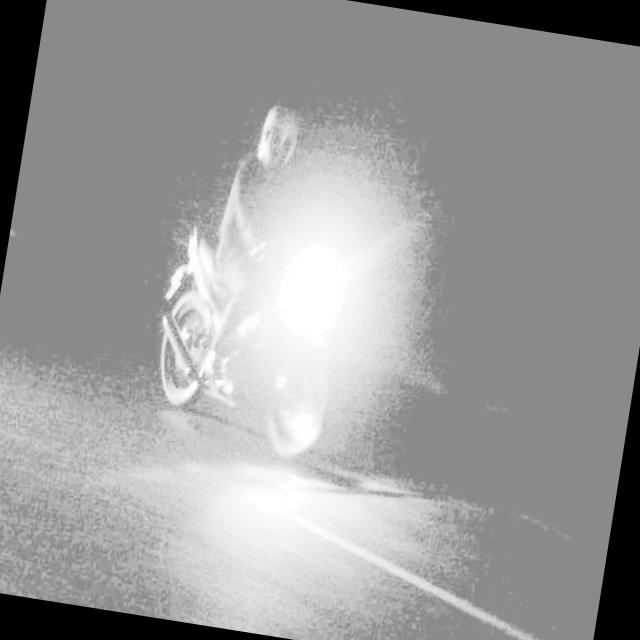Motorcycle: (134, 200, 385, 482)
